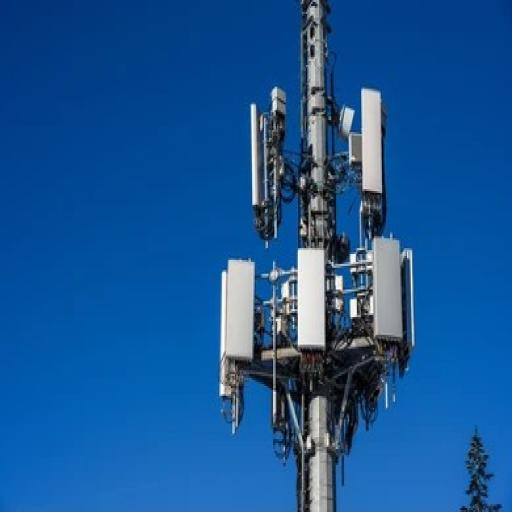monopole_tower: (218, 2, 415, 512)
